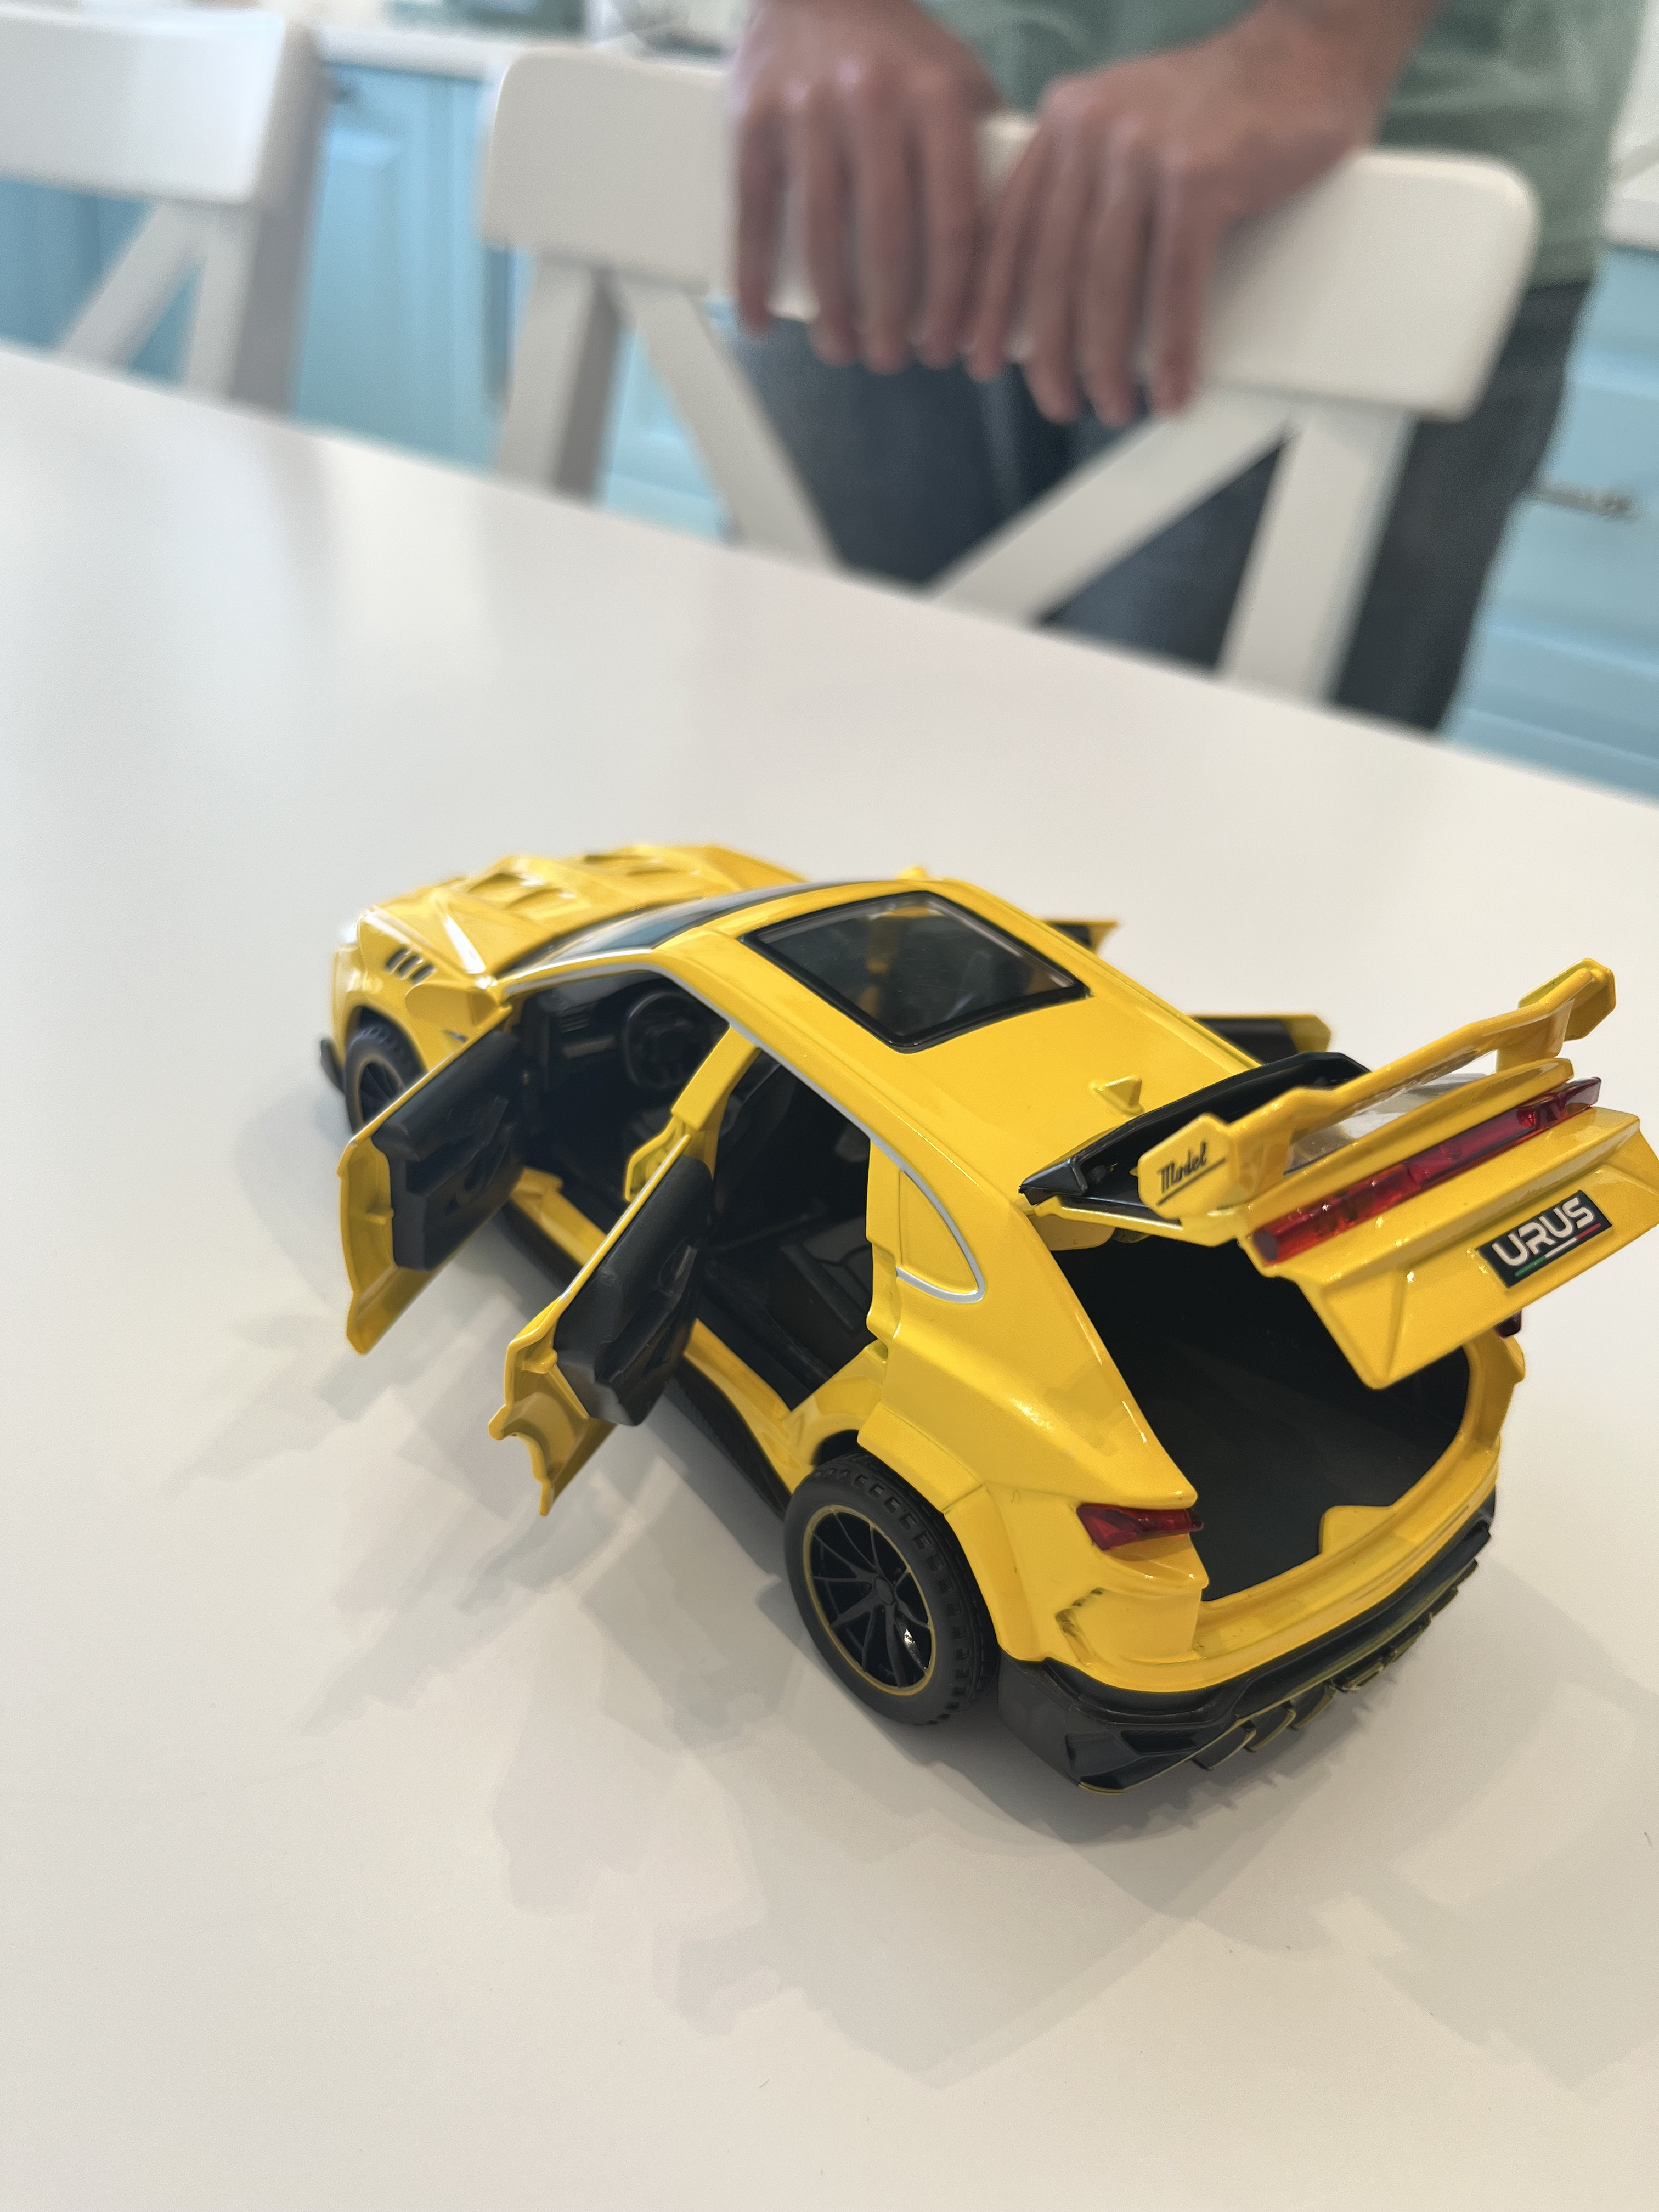lambo: (267, 653, 1647, 1785)
